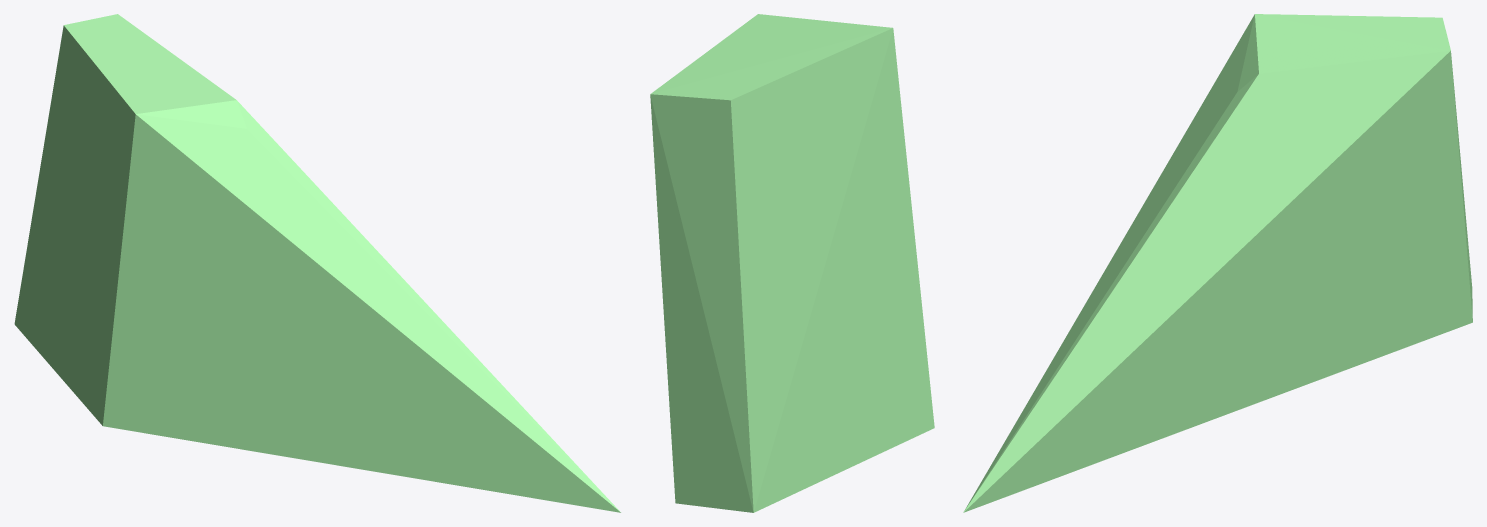
The model's file is UMIRobot_UMIRobot_link_5_convex_coll_14.dae.
The picture shows the model from 3 angles, left to right: view 1: azimuth 30°, elevation 25°; view 2: azimuth 150°, elevation 25°; view 3: azimuth 270°, elevation 25°; orthographic projection. The views are drawn at different scales.
Visible parts, largest first — view 1: node; view 2: node; view 3: node.
Part boxes in pixels (x1,y1,x2,y2): node: (14,14,620,512); node: (650,14,934,512); node: (963,14,1472,512).
Size of the model in its own units: 0.0119 by 0.0117 by 0.0153.
